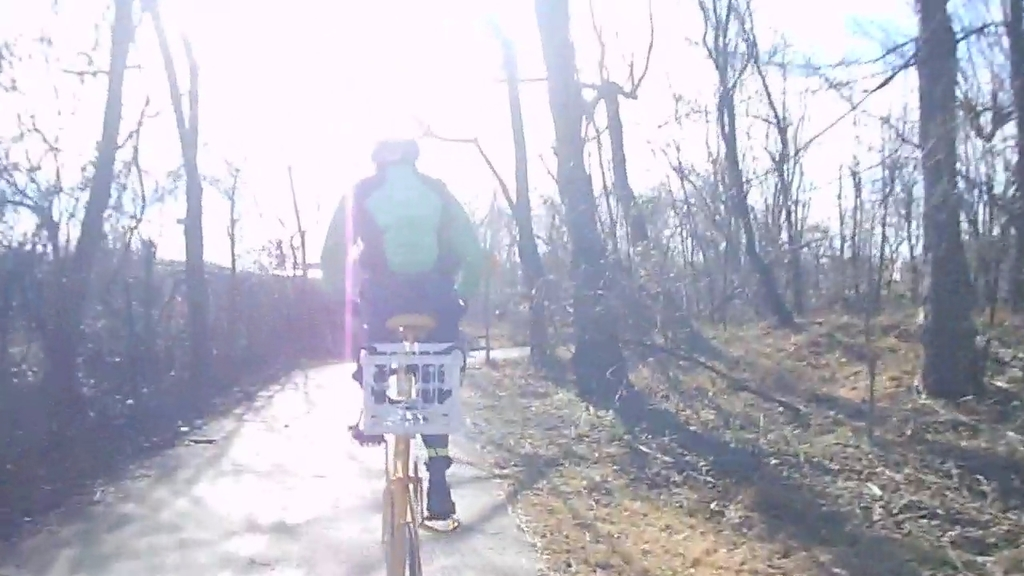Bike_away: (351, 302, 475, 568)
